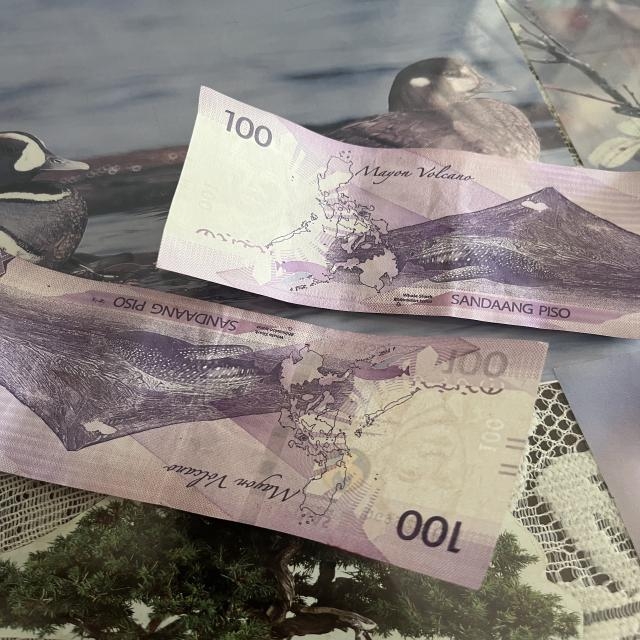100_whale: (104, 325, 286, 394), (390, 236, 570, 298)
100_whale_watermark: (269, 256, 345, 292), (340, 354, 419, 384)
value_watermark: (462, 410, 516, 456), (187, 175, 224, 218)
watermark: (341, 371, 505, 522)
